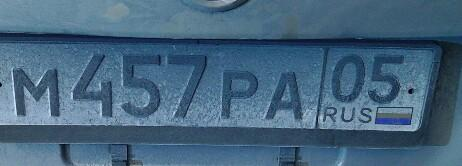license-plateSW: (2, 41, 437, 134)
